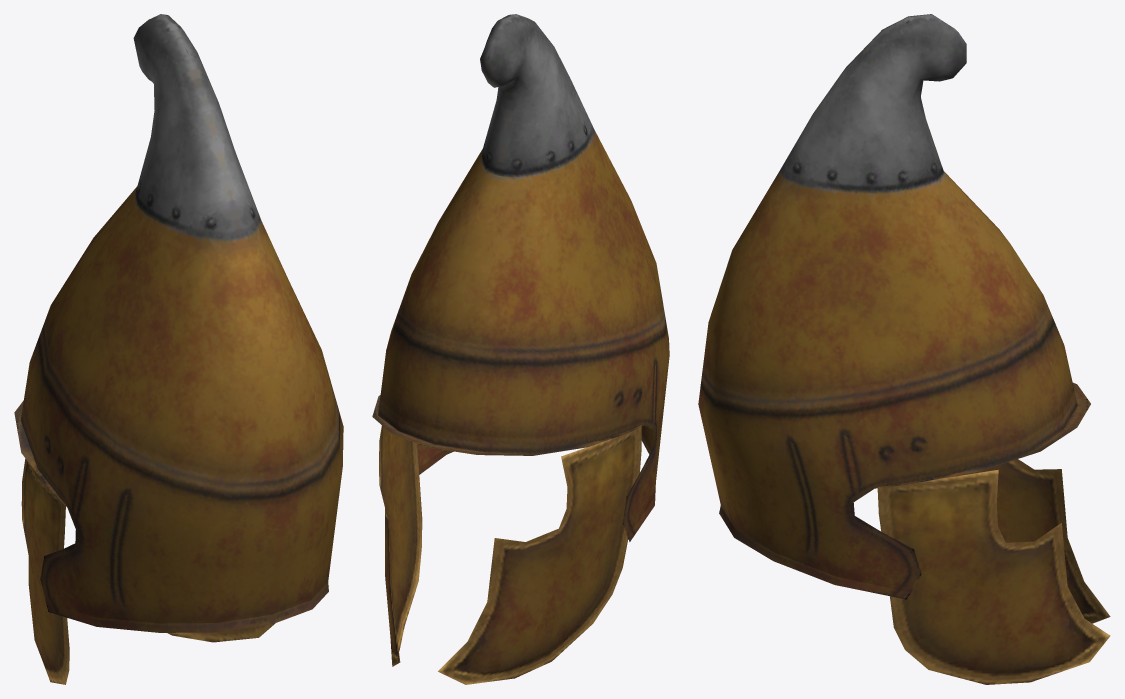
File: helm_hele_phrygian_p5.glb
The picture shows the model from 3 angles, left to right: view 1: azimuth 30°, elevation 25°; view 2: azimuth 150°, elevation 25°; view 3: azimuth 270°, elevation 25°; orthographic projection. The views are drawn at different scales.
Visible parts, largest first — view 1: helm_hele_phrygian_p5_part0, helm_hele_phrygian_p5_part1; view 2: helm_hele_phrygian_p5_part0, helm_hele_phrygian_p5_part1; view 3: helm_hele_phrygian_p5_part0, helm_hele_phrygian_p5_part1.
Boxes of the visible parts, box(x1,y1,x2,y2) form: helm_hele_phrygian_p5_part0: box(14, 14, 343, 632); helm_hele_phrygian_p5_part1: box(21, 458, 275, 684); helm_hele_phrygian_p5_part0: box(372, 14, 669, 541); helm_hele_phrygian_p5_part1: box(379, 425, 641, 684); helm_hele_phrygian_p5_part0: box(698, 14, 1090, 599); helm_hele_phrygian_p5_part1: box(877, 459, 1110, 684).
Bounding box in the file's own units: 0.4176 × 1.07 × 0.6258.
Materials: 2 (2 with a texture image).
